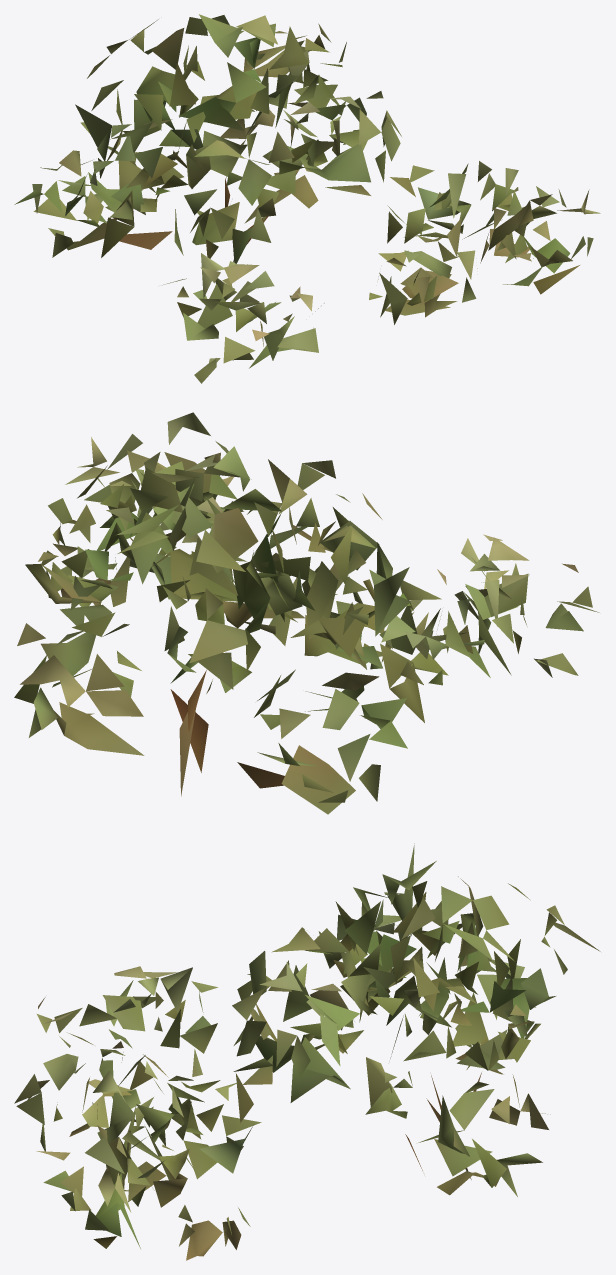
File: shrub-2-lod.glb
3 renders of one model, top to bottom at view 1: azimuth 30°, elevation 25°; view 2: azimuth 150°, elevation 25°; view 3: azimuth 270°, elevation 25°, orthographic. The views are drawn at different scales.
Visible parts, largest first — view 1: shrub-2-lod; view 2: shrub-2-lod; view 3: shrub-2-lod.
Boxes of the visible parts, x1,y1,x2,y2 form: shrub-2-lod: (14,14,600,383); shrub-2-lod: (14,412,599,814); shrub-2-lod: (14,843,600,1260).
Size of the model in its own units: 0.9969 by 0.5728 by 0.9985.
1 material, 1 textured.
